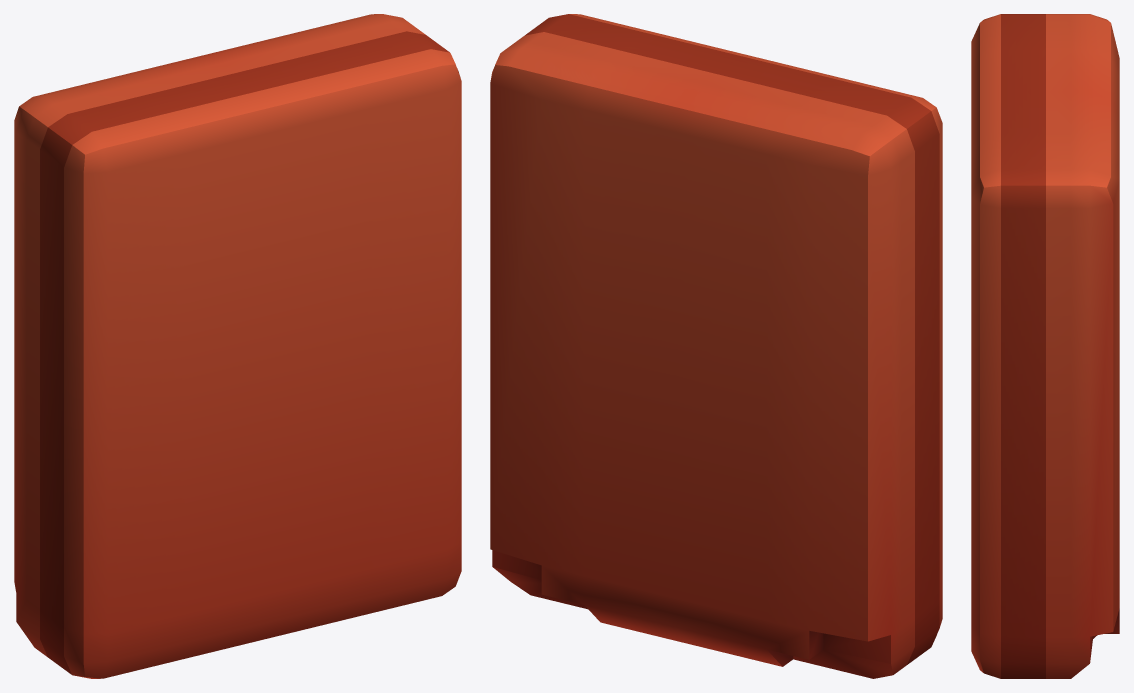
Rendered from human-household-items-binder_v1.glb.
The picture shows the model from 3 angles, left to right: view 1: azimuth 30°, elevation 25°; view 2: azimuth 150°, elevation 25°; view 3: azimuth 270°, elevation 25°; orthographic projection. The views are drawn at different scales.
Parts seen in each view (by area): view 1: Binder; view 2: Binder; view 3: Binder.
Part boxes in pixels (bbox=[...]): Binder: bbox=[14, 14, 461, 678]; Binder: bbox=[490, 14, 942, 678]; Binder: bbox=[971, 14, 1119, 678].
Bounding box in the file's own units: 0.2263 × 0.3 × 0.0794.
